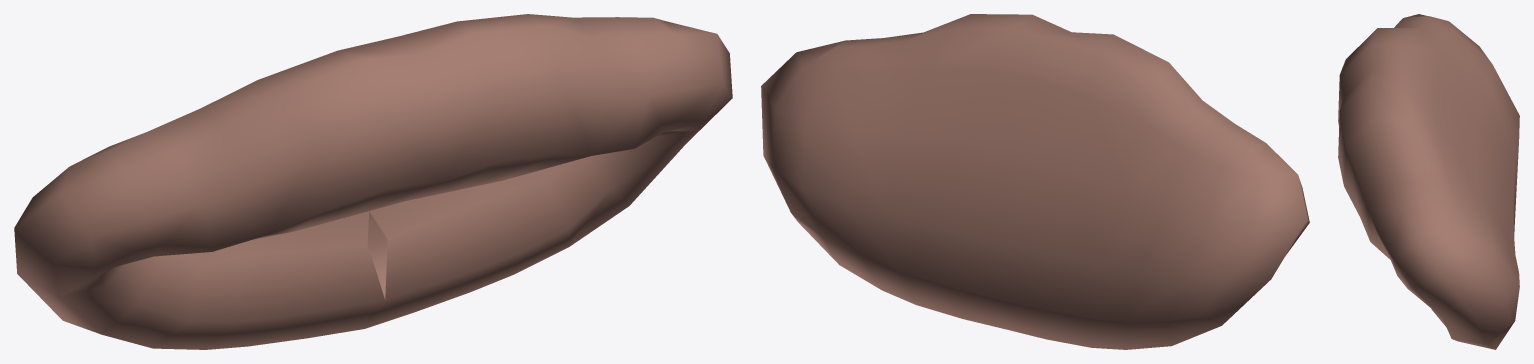
3 views of the same model, side by side, from view 1: azimuth 30°, elevation 25°; view 2: azimuth 150°, elevation 25°; view 3: azimuth 270°, elevation 25° (orthographic). The views are drawn at different scales.
Visible parts, largest first — view 1: perons6_lip; view 2: perons6_lip; view 3: perons6_lip.
Boxes of the visible parts, x1,y1,x2,y2 form: perons6_lip: (14, 14, 732, 349); perons6_lip: (761, 14, 1309, 349); perons6_lip: (1338, 14, 1519, 349).
Bounding box in the file's own units: 0.4605 × 0.2059 × 0.1442.
